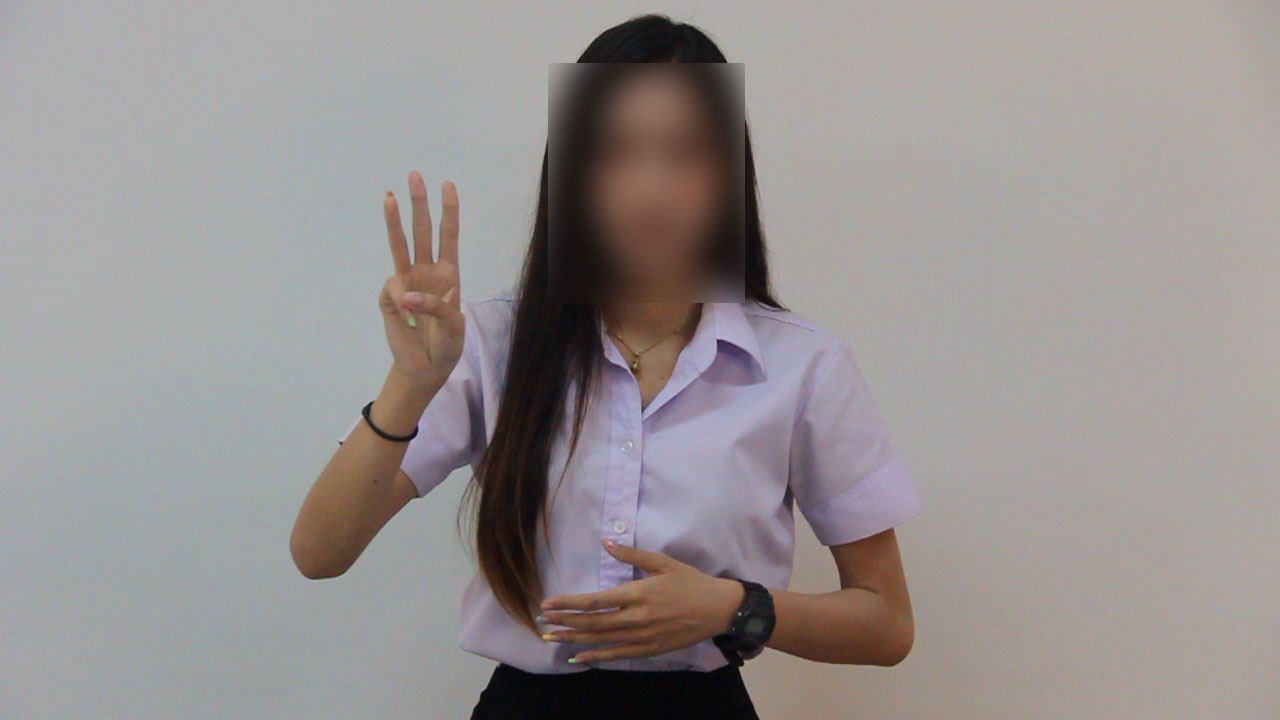wor: (368, 163, 472, 400)
